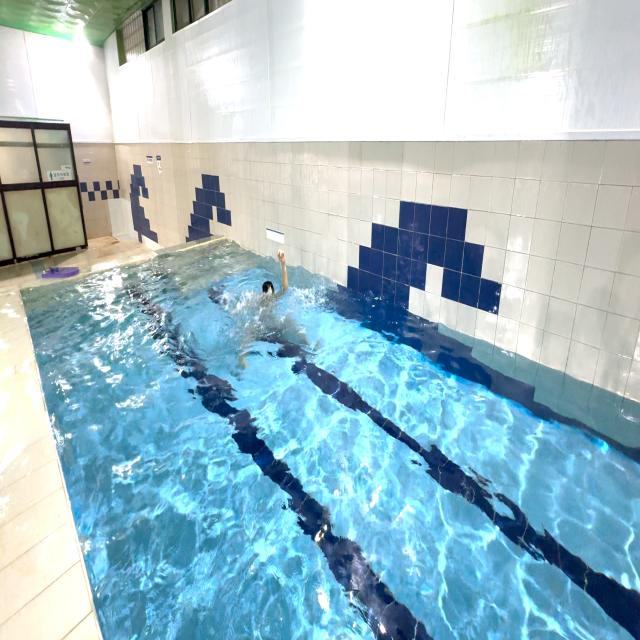Drowning: (222, 242, 316, 377)
